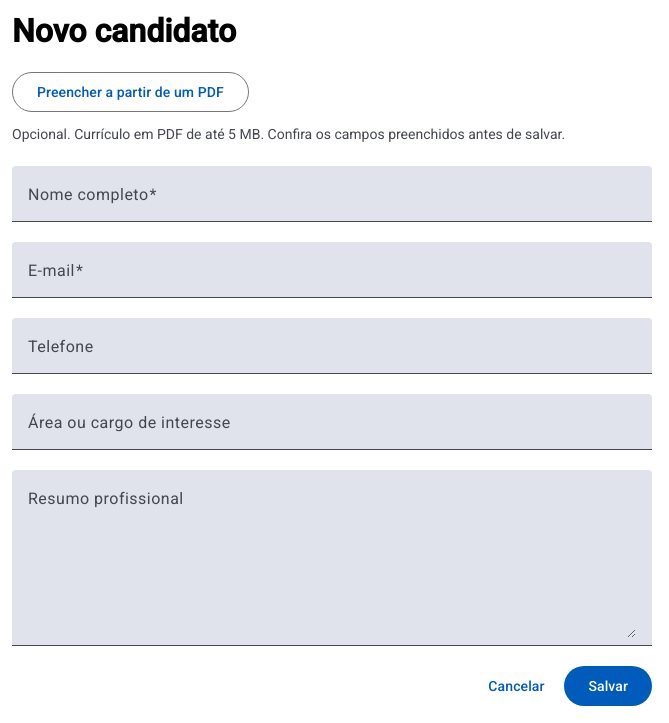
Test: CadastroCandidatoComponent › erros devolvidos pela API › mostra o e-mail já cadastrado no campo de e-mail, e não em alerta genérico
Type "Maria da Silva" into the field labelled "Nome completo" at (332, 202), box [28,190,636,214]
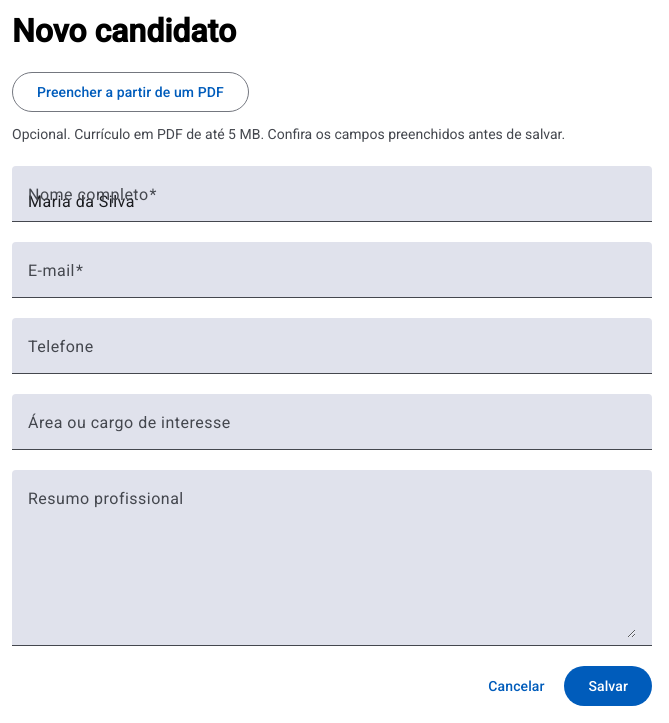
Type "maria.silva@exemplo.com" into the field labelled "E-mail" at (332, 278), box [28,266,636,290]
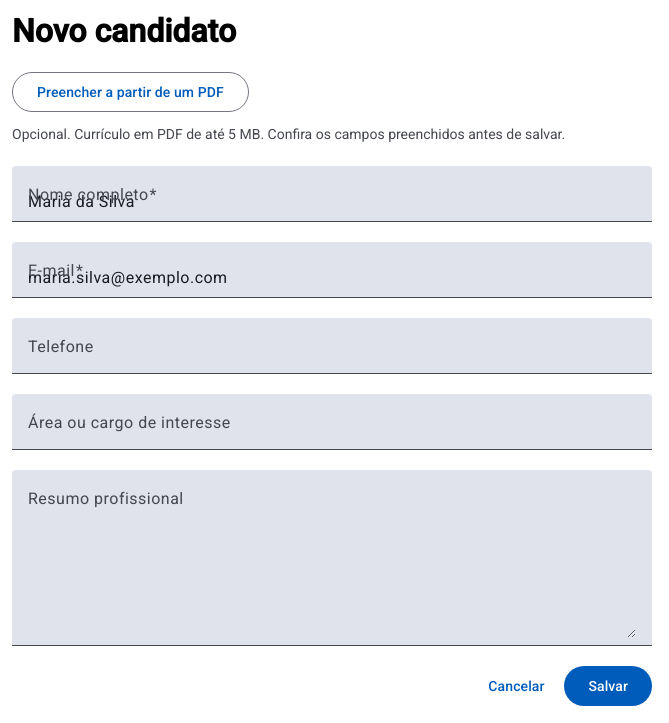
Submit the form
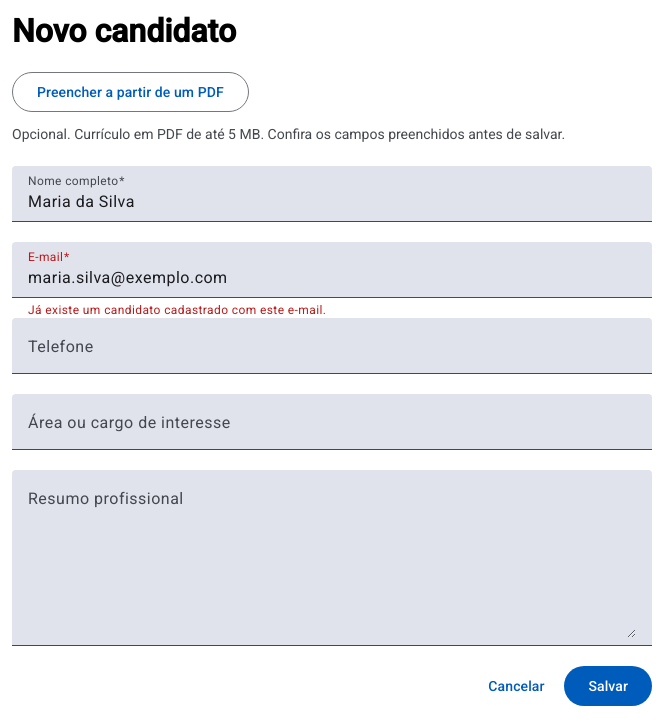
Expected: the submit button is enabled, [564,666,652,706]
Expected: the text "Já existe um candidato cadastrado com este e-mail." is shown, [28,303,326,317]
